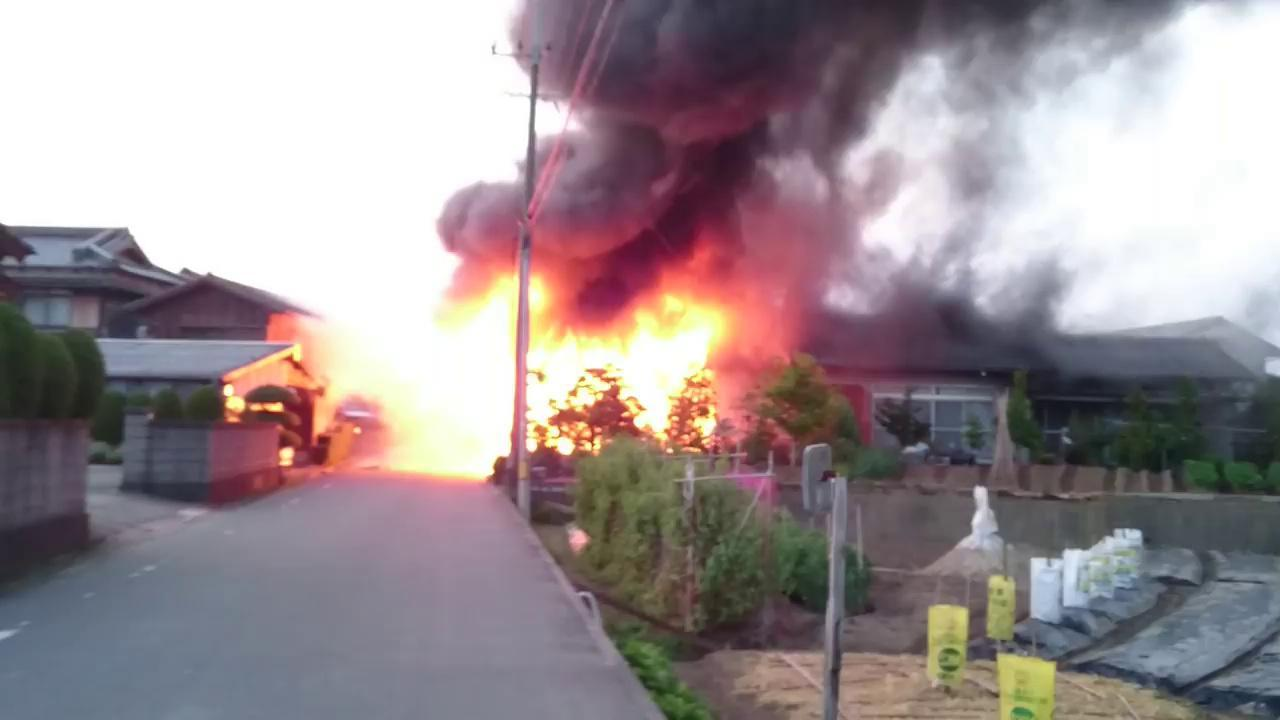Fire: (327, 282, 748, 486)
